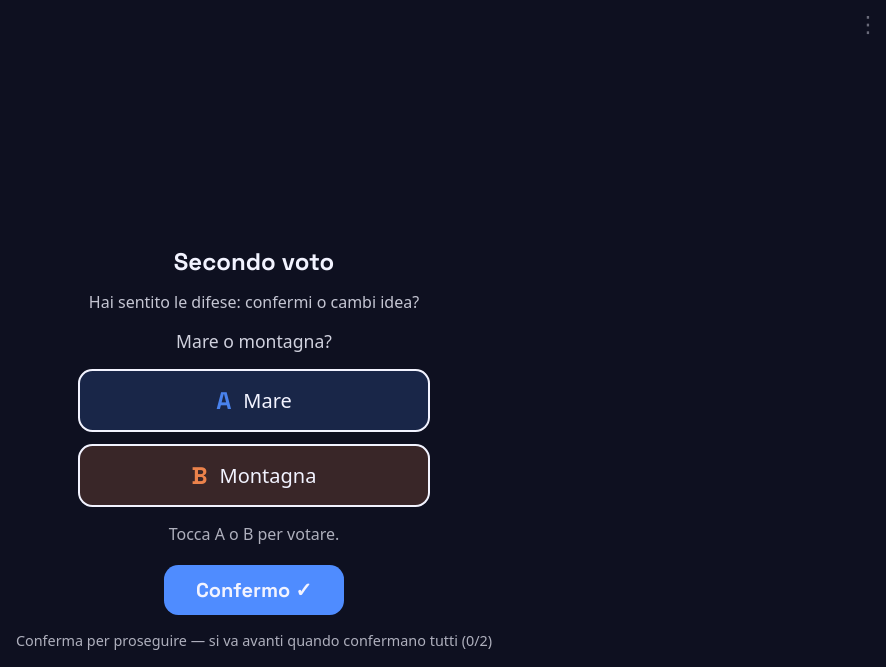
PlayerApp › gives personal feedback after confirming the second vote
Check: the text "aspettiamo gli altri" is not shown
Click the button "Confermo ✓".
click(254, 590)  # box 164,565 -> 344,615
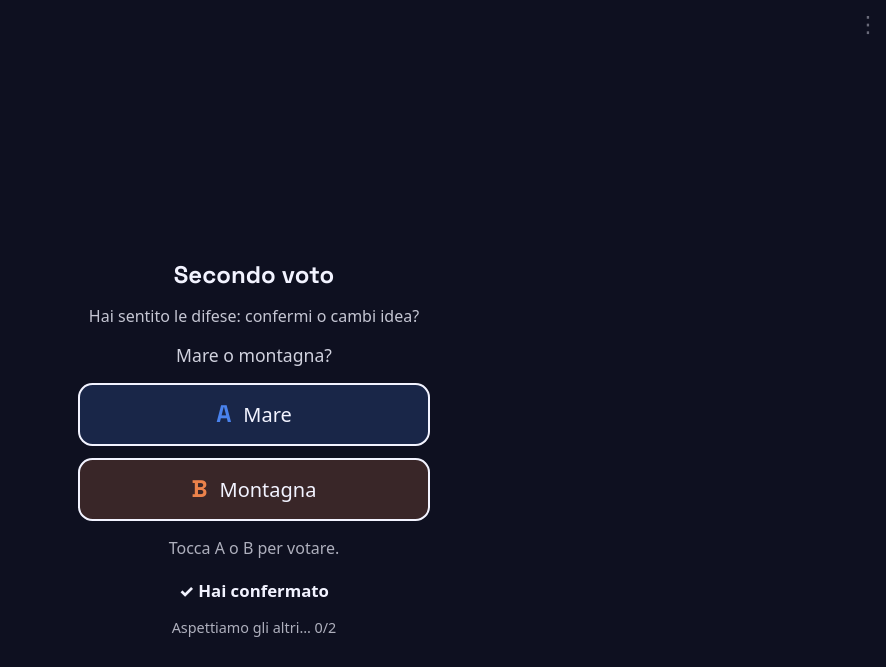
Check: the text "Aspettiamo gli altri… 0/2" is shown, box 172,618 -> 336,637
